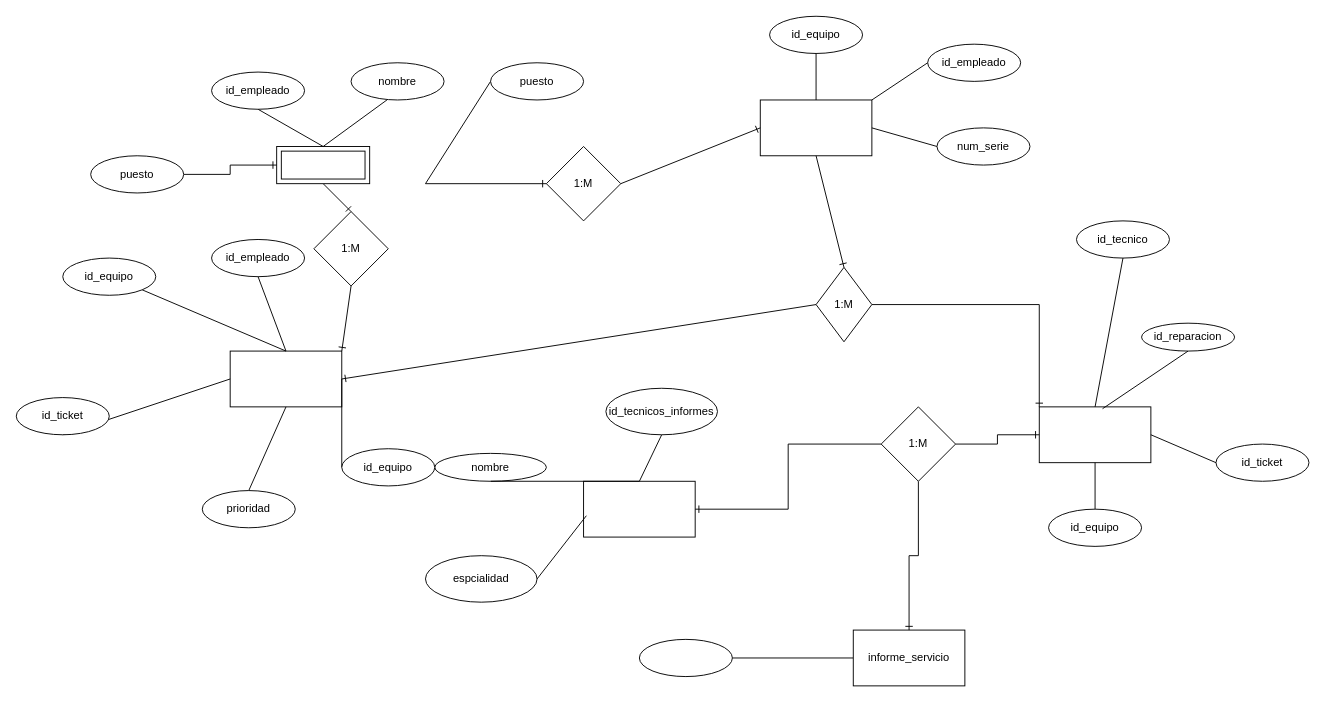
Image size: 1325x702. Some labels were removed from this diagram. The shapes that lost their labels are listed below. From the top down, each one's centre as x and y in pixels, then its label:
the point at 815,127: equipo de computo
the point at 323,165: empleado
the point at 285,378: tickes_de_soporte
the point at 1094,434: reparaciones
the point at 639,508: tecnicos_informes
the point at 685,657: id_servicio
